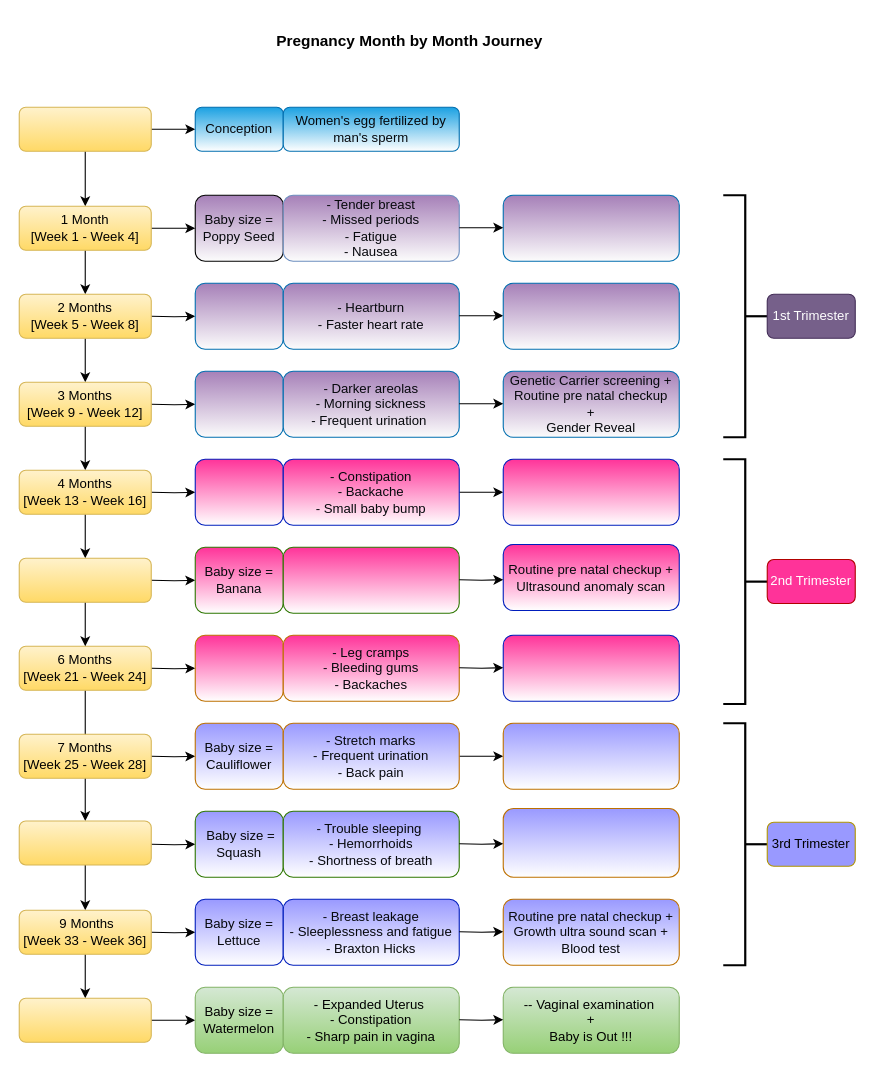
The diagram is 875 pixels wide and 1073 high, and some of its shapes have lost their labels. The shapes that lost their labels are listed below. From the top down, each one's box as (x1, y1, x2, y2) in pixels, then its label:
(18, 106, 151, 151): 0 Month
(502, 194, 679, 261): Blood test to confirm pregnancy
(194, 282, 283, 349): Baby size = Raspberry
(502, 282, 679, 349): 1st Prenatal checkup + 1st Ultra sound scanning + Blood and Urine lab tests
(194, 370, 283, 437): Baby size = Lime
(194, 458, 283, 525): Baby size = Avocado
(502, 458, 679, 525): Routine pre natal checkup
(18, 557, 151, 602): 5 Months [Week 17 - Week 20]
(282, 546, 459, 613): - Start feeling baby kicks - Moodiness - Swollen legs
(194, 634, 283, 701): Baby size = Corn
(502, 634, 679, 701): Routine pre natal checkup + 1st dose of Tetanus shot
(502, 722, 679, 789): Routine pre natal checkup + 2nd dose of Tetanus shot + Growth ulta-sound scan
(18, 820, 151, 865): 8 Months [Week 29 - Week 32]
(502, 807, 679, 877): Routine pre natal checkup + Baby Shower
(18, 997, 151, 1042): 10 Months [Week 37 - Week 40]
